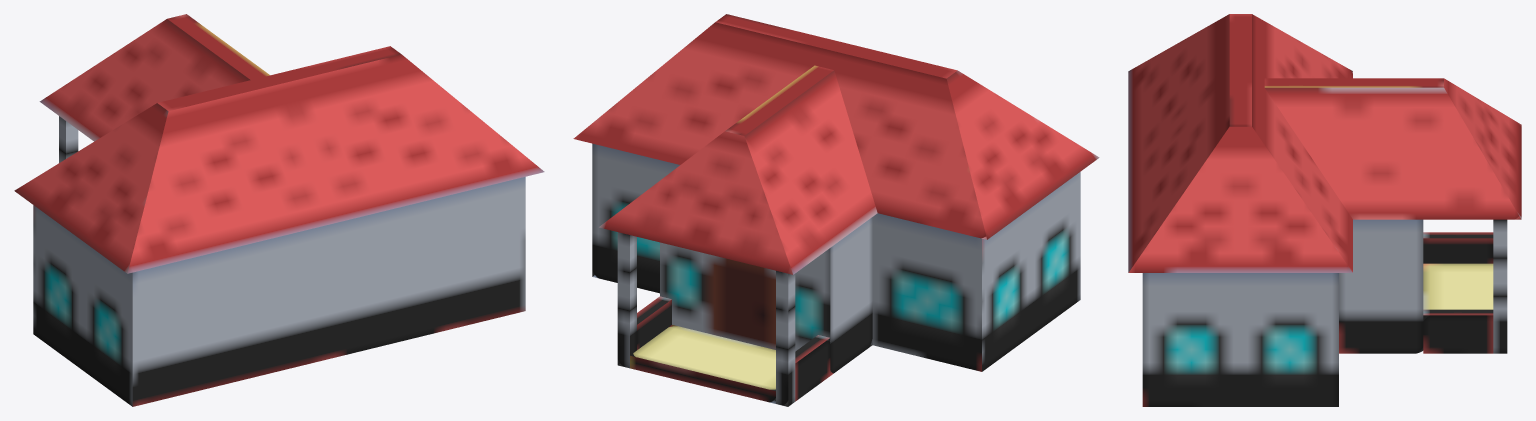
The model's file is Rumah_Tipe2_T1.fbx.
The picture shows the model from 3 angles, left to right: view 1: azimuth 30°, elevation 25°; view 2: azimuth 150°, elevation 25°; view 3: azimuth 270°, elevation 25°; orthographic projection.
Parts seen in each view (by area): view 1: Tembok2, Atap2, Atap1, Pole1; view 2: Atap2, Tembok2, Atap1, Tembok1, Lantai, Pole1, Pole2, Tembok_K1, Tembok_K2; view 3: Atap2, Atap1, Tembok2, Tembok1, Lantai, Tembok_K2, Tembok_K1, Pole2.
Part boxes in pixels (x1=…): Tembok2: x1=33, y1=177, x2=525, y2=406; Atap2: x1=14, y1=46, x2=544, y2=273; Atap1: x1=39, y1=14, x2=269, y2=141; Pole1: x1=59, y1=116, x2=78, y2=162; Atap2: x1=573, y1=14, x2=1099, y2=239; Tembok2: x1=592, y1=143, x2=1080, y2=371; Atap1: x1=599, y1=65, x2=877, y2=274; Tembok1: x1=660, y1=217, x2=872, y2=375; Lantai: x1=630, y1=325, x2=775, y2=403; Pole1: x1=776, y1=271, x2=795, y2=406; Pole2: x1=617, y1=232, x2=636, y2=368; Tembok_K1: x1=795, y1=335, x2=830, y2=401; Tembok_K2: x1=637, y1=296, x2=671, y2=349; Atap2: x1=1128, y1=14, x2=1352, y2=272; Atap1: x1=1264, y1=78, x2=1521, y2=219; Tembok2: x1=1142, y1=273, x2=1338, y2=406; Tembok1: x1=1339, y1=219, x2=1423, y2=353; Lantai: x1=1423, y1=263, x2=1493, y2=309; Tembok_K2: x1=1423, y1=309, x2=1493, y2=353; Tembok_K1: x1=1423, y1=232, x2=1493, y2=263; Pole2: x1=1493, y1=219, x2=1507, y2=353.
Bounding box in the file's own units: 1700 × 950 × 1400.
1 material, 1 textured.
